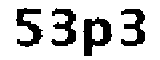3: (48, 4, 79, 49), (117, 5, 148, 48)
5: (12, 4, 45, 50)
p: (80, 14, 114, 60)
